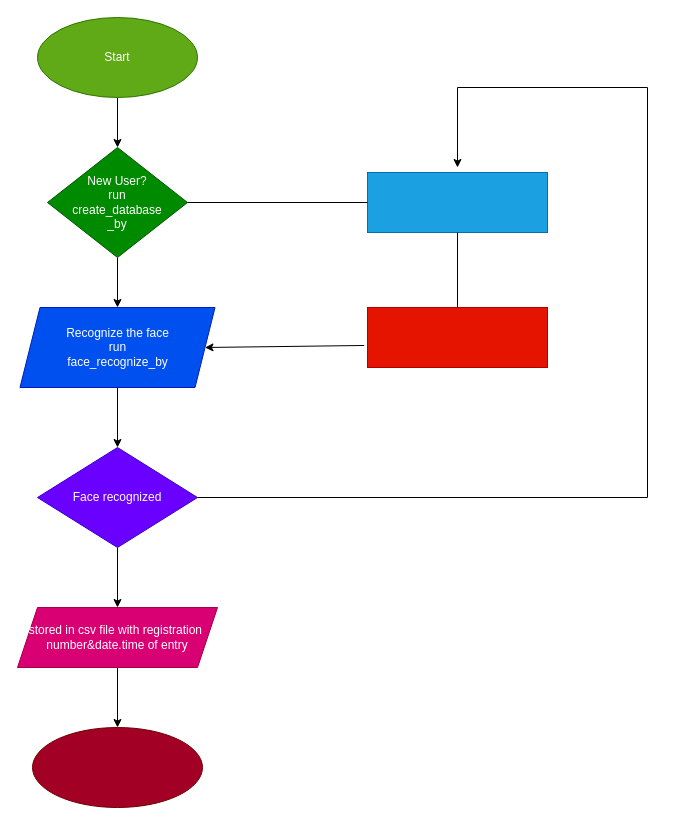
Some shapes in this 673 by 825 pixel diagram are drawn without their labels. The shapes that lost their labels are listed below. From the top down, each one's centre as x and y in pixels, then its label:
the point at 457,202: Give your photograph
the point at 457,337: store the face data in folder on your name
the point at 117,767: End
